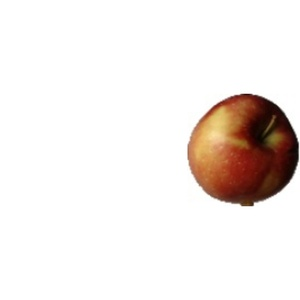maçã braeburn: (186, 91, 299, 206)
